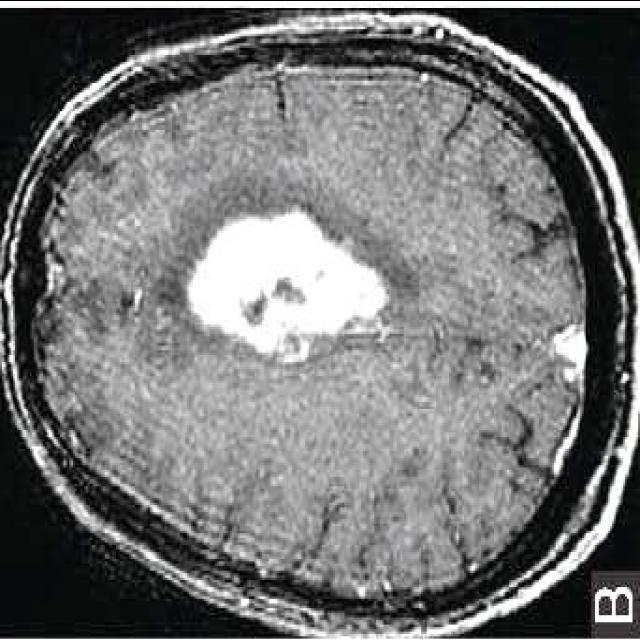tumor: (187, 206, 393, 361)
